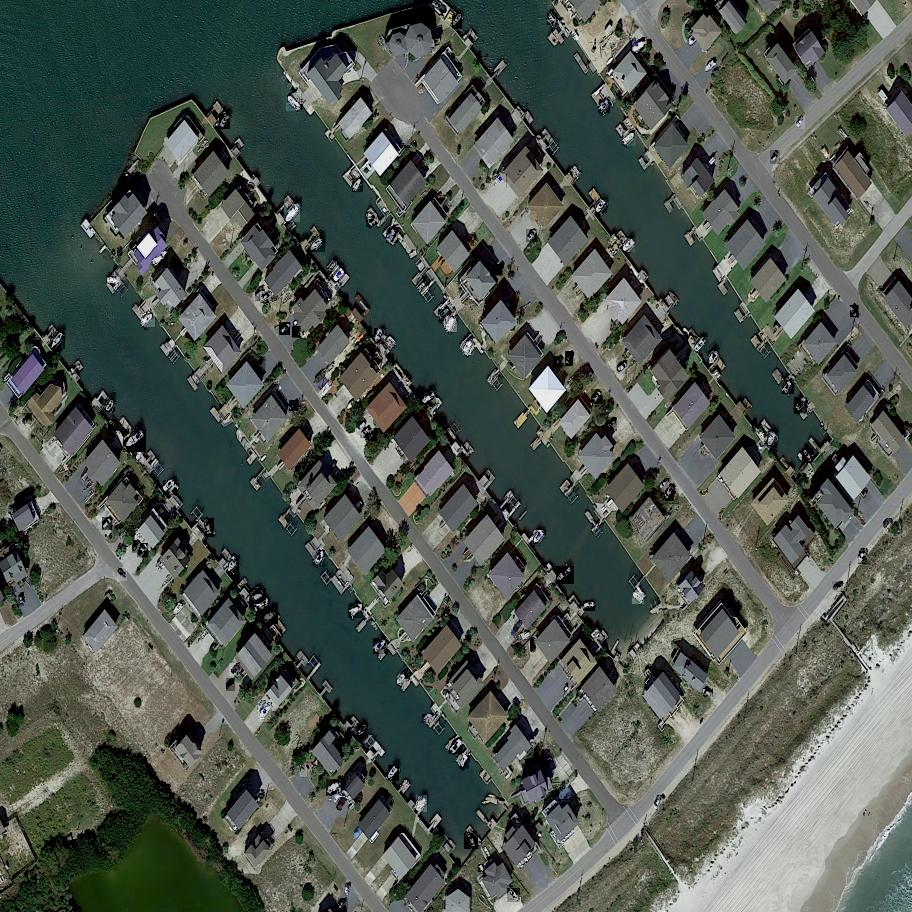ship: (122, 429, 147, 452), (284, 203, 302, 224), (556, 567, 576, 585), (150, 250, 170, 268), (326, 780, 346, 798), (285, 93, 303, 111), (261, 607, 280, 624), (248, 588, 267, 605), (258, 703, 273, 723), (420, 392, 437, 408), (793, 398, 809, 414), (373, 639, 390, 654), (694, 337, 709, 354), (141, 314, 158, 329), (51, 332, 65, 350), (449, 739, 464, 755), (622, 132, 638, 147), (348, 604, 365, 618), (311, 238, 326, 253), (506, 888, 521, 903), (622, 238, 637, 253), (533, 530, 546, 547), (386, 226, 399, 243), (495, 174, 509, 189), (164, 480, 178, 495), (801, 448, 814, 464), (416, 796, 428, 813), (446, 317, 458, 334), (388, 765, 400, 782), (171, 603, 185, 617), (560, 787, 573, 802), (687, 33, 700, 48), (705, 59, 718, 74), (537, 757, 553, 769), (632, 41, 648, 53), (462, 340, 474, 356), (219, 113, 231, 129), (599, 100, 612, 114), (351, 178, 364, 192), (438, 309, 451, 323), (452, 15, 464, 30), (596, 200, 608, 215), (228, 559, 240, 574), (767, 432, 778, 448), (374, 329, 385, 345), (783, 381, 795, 395), (256, 598, 270, 610), (398, 673, 409, 687), (707, 351, 718, 365), (460, 755, 470, 770), (357, 724, 367, 739), (366, 212, 375, 228), (107, 420, 119, 432), (632, 593, 645, 604), (548, 13, 559, 26), (105, 399, 116, 412), (582, 601, 596, 611), (572, 31, 583, 42), (136, 450, 146, 462), (573, 165, 582, 178), (423, 715, 434, 724), (107, 277, 119, 284), (478, 864, 485, 873)
small-vehicle: (510, 620, 525, 638), (463, 833, 478, 850), (137, 544, 150, 559), (591, 389, 604, 404), (336, 797, 348, 813), (314, 551, 326, 567), (225, 679, 239, 692), (115, 568, 129, 581), (657, 478, 671, 491), (615, 361, 629, 374), (259, 292, 274, 304), (204, 519, 214, 537), (665, 484, 675, 501), (229, 663, 242, 676), (606, 418, 619, 431), (279, 323, 292, 336), (490, 264, 504, 276), (102, 517, 114, 531), (356, 421, 368, 435), (526, 229, 538, 243), (654, 796, 666, 810), (770, 151, 782, 165), (669, 489, 680, 504), (255, 287, 266, 302), (257, 356, 268, 371), (368, 428, 380, 441), (338, 898, 350, 911), (858, 549, 868, 564), (795, 116, 806, 129), (883, 518, 894, 531), (552, 356, 565, 367), (565, 352, 575, 366), (850, 306, 861, 318), (833, 582, 845, 593), (289, 400, 301, 411), (22, 414, 33, 426), (292, 327, 303, 338), (258, 700, 267, 713), (361, 428, 372, 438), (133, 540, 141, 553), (301, 765, 309, 778), (703, 688, 714, 697), (18, 593, 24, 605), (530, 638, 535, 652), (345, 884, 348, 893)
